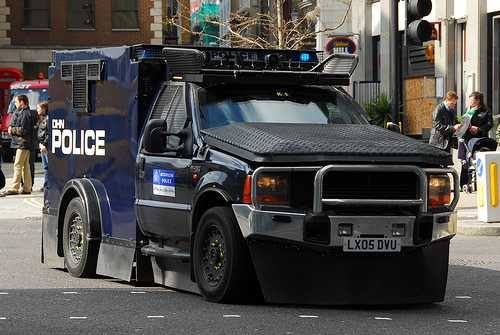Police Van: (34, 33, 449, 318)
